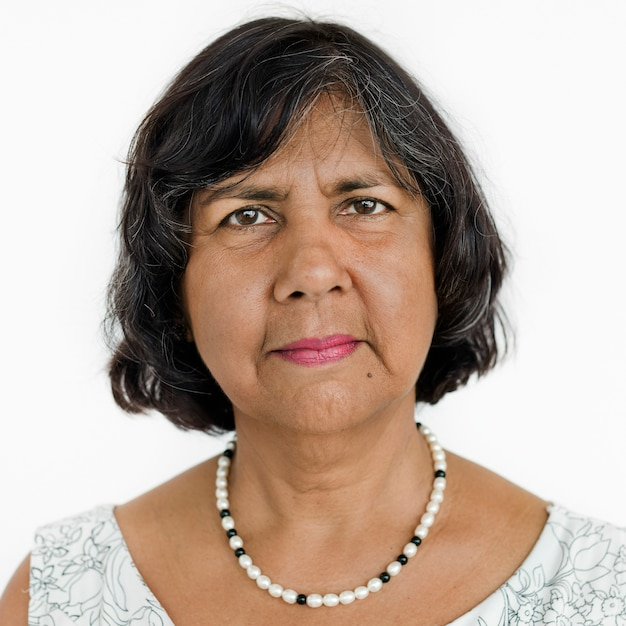young: (74, 21, 495, 436)
